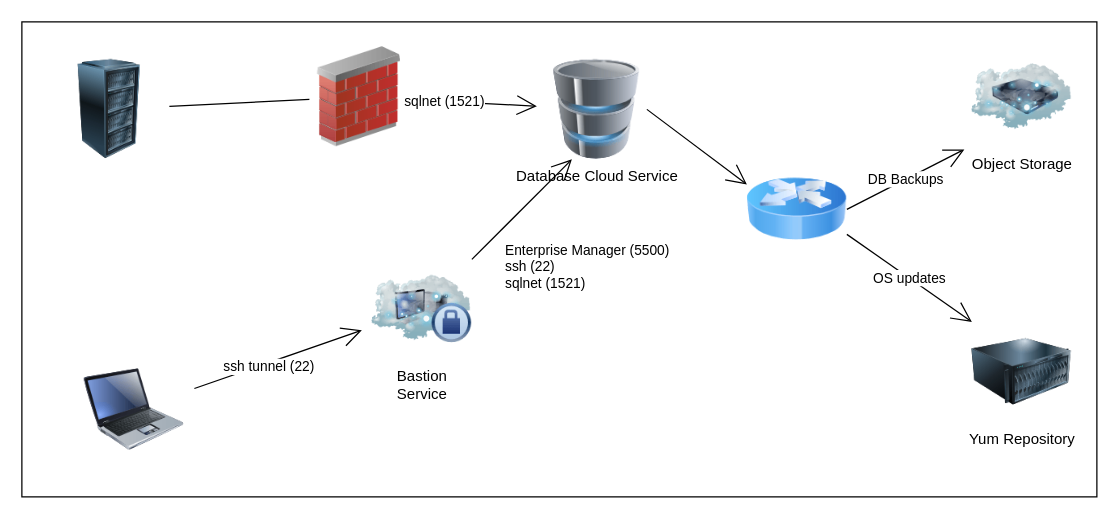
Image size: 1119x519. Some labels were removed from this diagram. Each missing label, with the box of its shape:
Application: (59, 59, 159, 159)
Service Gateway: (746, 159, 846, 259)
